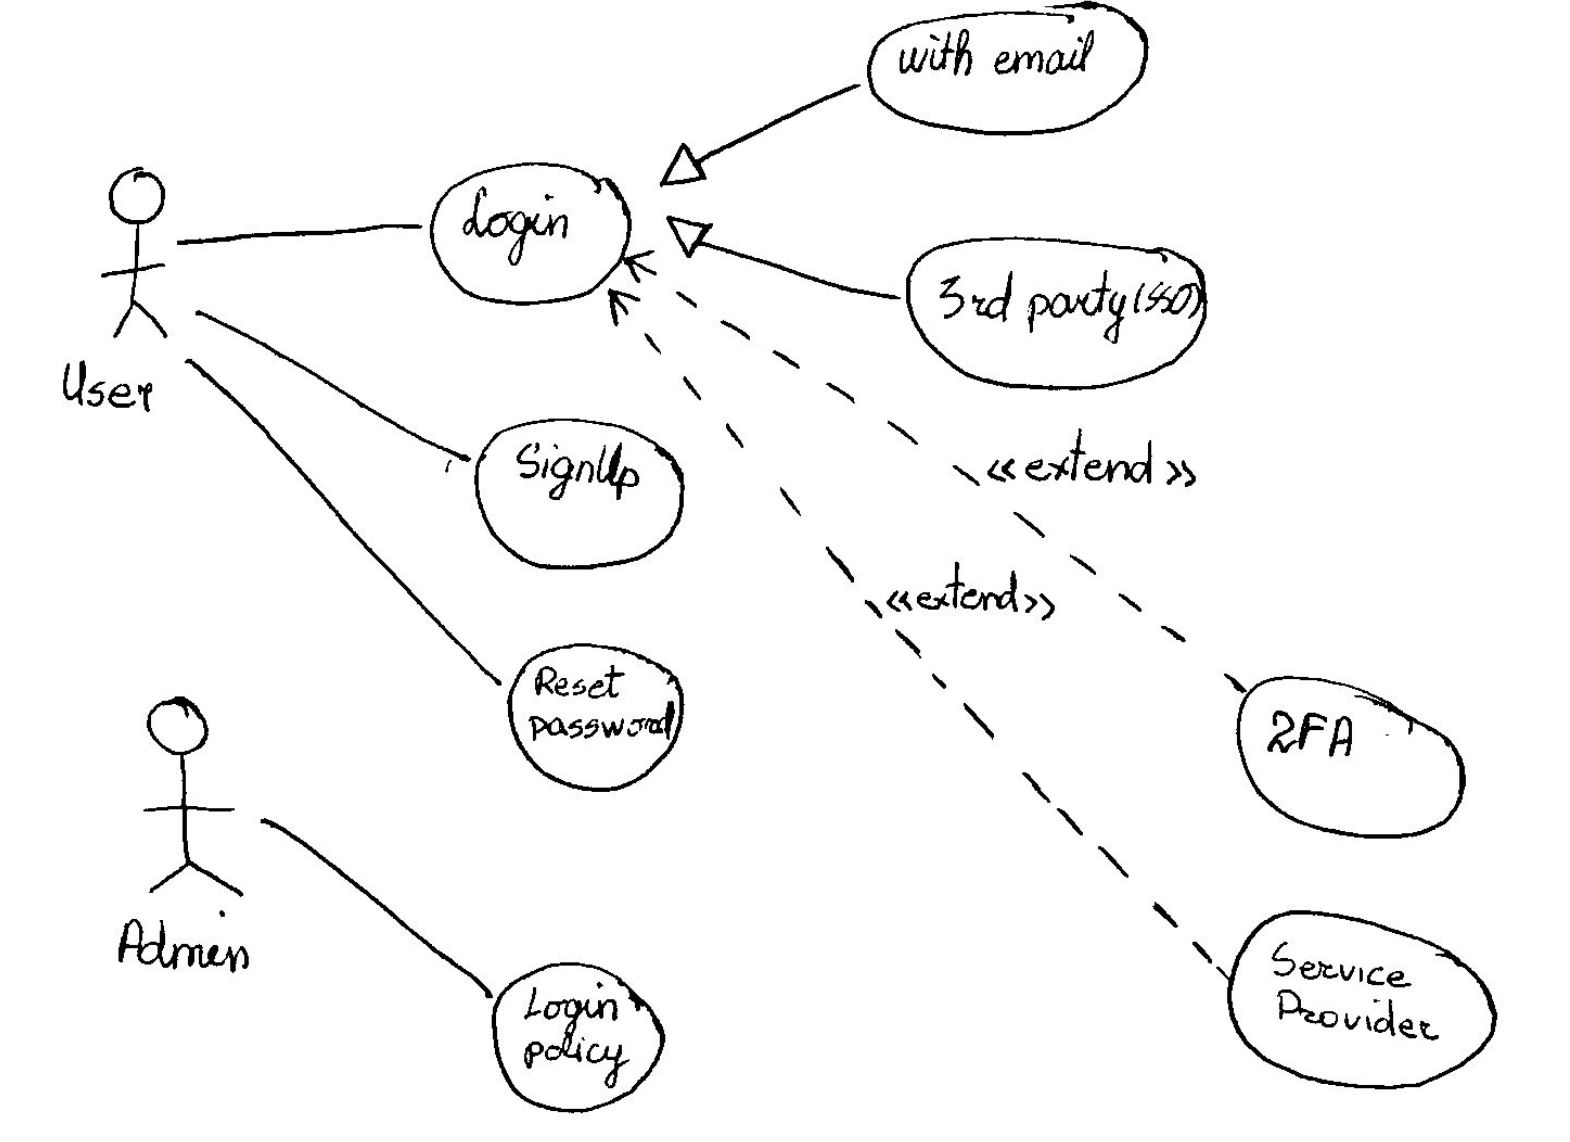actor: (127, 693, 256, 902), (93, 154, 184, 342)
association: (607, 283, 1226, 979), (620, 252, 1240, 689), (184, 355, 503, 686), (194, 306, 471, 461), (258, 813, 492, 996), (176, 215, 427, 252)
generalization: (659, 212, 904, 310), (655, 80, 862, 188)
text: (930, 264, 1199, 345), (1266, 938, 1451, 1049), (517, 980, 642, 1094), (984, 431, 1213, 494), (902, 26, 1103, 91), (875, 559, 1059, 631), (527, 661, 675, 743), (457, 182, 577, 266), (520, 442, 648, 519), (1257, 700, 1371, 778), (107, 917, 257, 975), (57, 352, 165, 416)
use_case: (1227, 909, 1496, 1091), (906, 235, 1208, 389), (1236, 672, 1468, 843), (867, 1, 1149, 137), (477, 417, 684, 569), (428, 160, 633, 303), (490, 963, 667, 1115), (510, 642, 687, 792)
